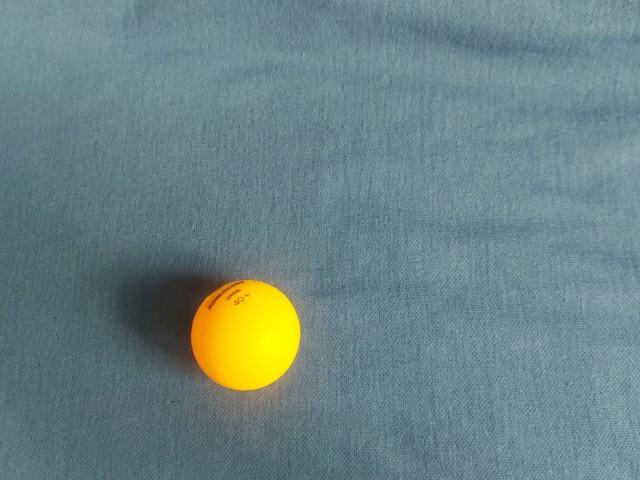oball: (183, 274, 308, 398)
